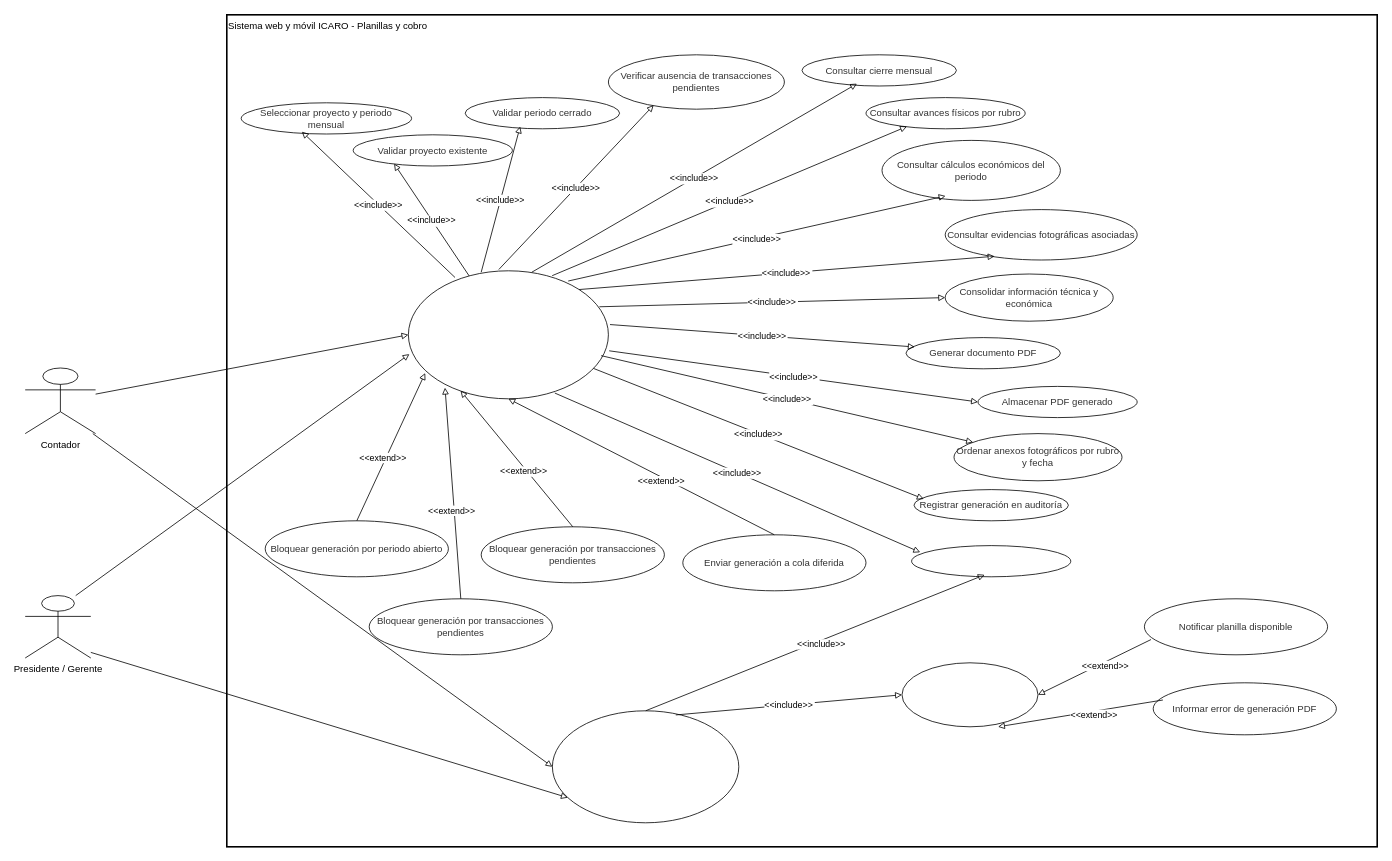
This 1392x861 diagram has some shape labels left out. Here are the shapes that lost their labels. From the top down, the centre of each, then its label:
At point 508,334: "Generar planilla mensual de obra en PDF".
At point 991,561: "Descargar planilla PDF".
At point 969,694: "Consultar estado de generación".
At point 645,766: "Consultar planilla mensual".
